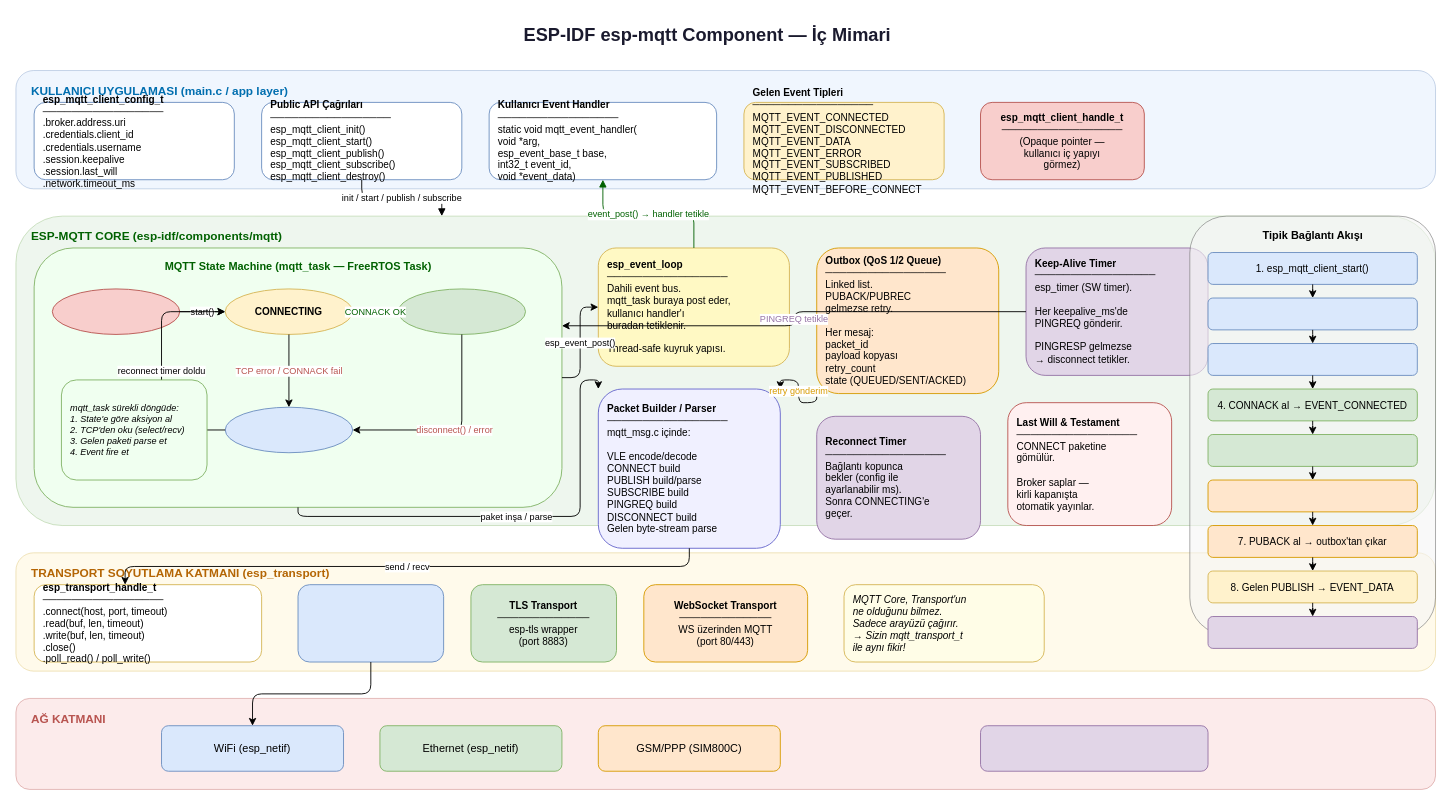
Image size: 1451x805. Some labels were removed from this diagram. The shapes that lost their labels are listed below. From the top down, each one's centre as x and y in pixels, then its label:
point (115, 311): DISCONNECTED
point (461, 311): CONNECTED
point (1312, 313): 2. TCP bağlantısı aç
point (1312, 359): 3. CONNECT paketi gönder
point (288, 429): WAIT_RECONNECT
point (1312, 450): 5. SUBSCRIBE → SUBACK → EVENT_SUBSCRIBED
point (1312, 495): 6. PUBLISH (outbox'a ekle)
point (370, 623): TCP Transport ───────────── lwIP TCP socket (port 1883)
point (1312, 632): 9. keepalive → PINGREQ / PINGRESP
point (1094, 748): MQTT Broker (HiveMQ / Mosquitto / EMQX)
